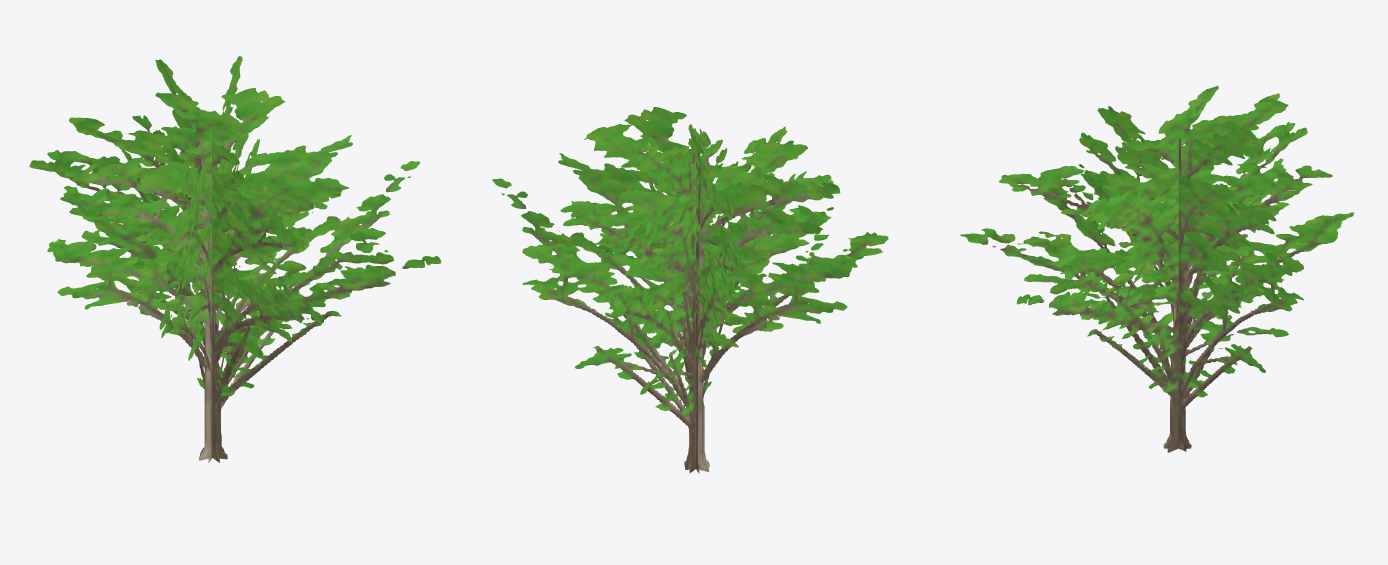
File: b-maple.glb
3 renders of one model, left to right at view 1: azimuth 30°, elevation 25°; view 2: azimuth 150°, elevation 25°; view 3: azimuth 270°, elevation 25°, orthographic. The views are drawn at different scales.
Parts seen in each view (by area): view 1: BackgroundTree; view 2: BackgroundTree; view 3: BackgroundTree.
Boxes of the visible parts, x1,y1,x2,y2 form: BackgroundTree: (29, 56, 441, 462); BackgroundTree: (492, 107, 888, 473); BackgroundTree: (960, 85, 1354, 452).
Size of the model in its own units: 2.41 by 2.1 by 2.4.
Materials: 1 (1 with a texture image).
